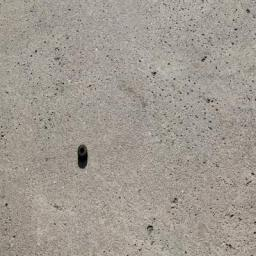FOD: (76, 141, 92, 172)
